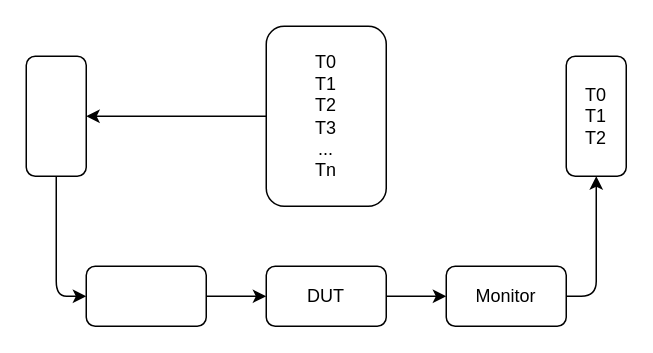
The diagram is 653 pixels wide and 353 high, and some of its shapes have lost their labels. Here are the shapes that lost their labels. From the top down, the box of each, then its label:
(25, 55, 86, 176): T2 T1 T0
(85, 265, 206, 326): Driver
